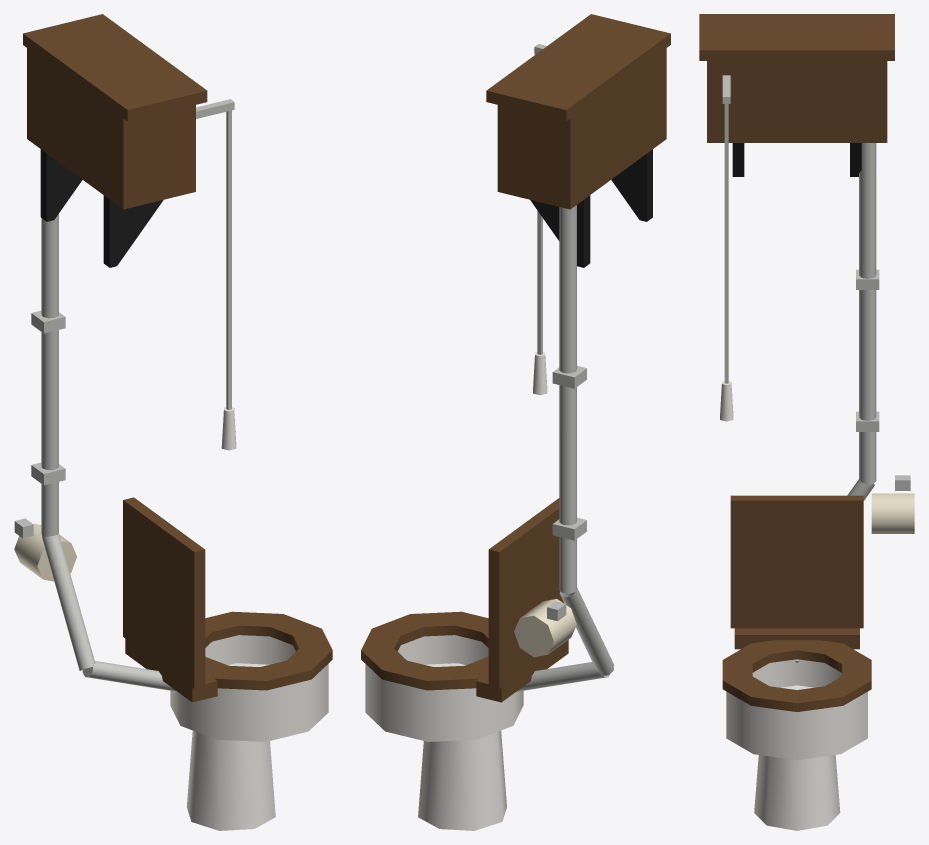
The model's file is parametric-wc-1st-pub.glb.
3 renders of one model, left to right at view 1: azimuth 30°, elevation 25°; view 2: azimuth 150°, elevation 25°; view 3: azimuth 270°, elevation 25°, orthographic. The views are drawn at different scales.
Parts seen in each view (by area): view 1: parametric-wc-1st-pub; view 2: parametric-wc-1st-pub; view 3: parametric-wc-1st-pub.
Boxes of the visible parts, x1,y1,x2,y2 form: parametric-wc-1st-pub: (14,14,332,830); parametric-wc-1st-pub: (361,14,670,830); parametric-wc-1st-pub: (699,14,914,830).
Size of the model in its own units: 0.68 by 2.05 by 0.55.
